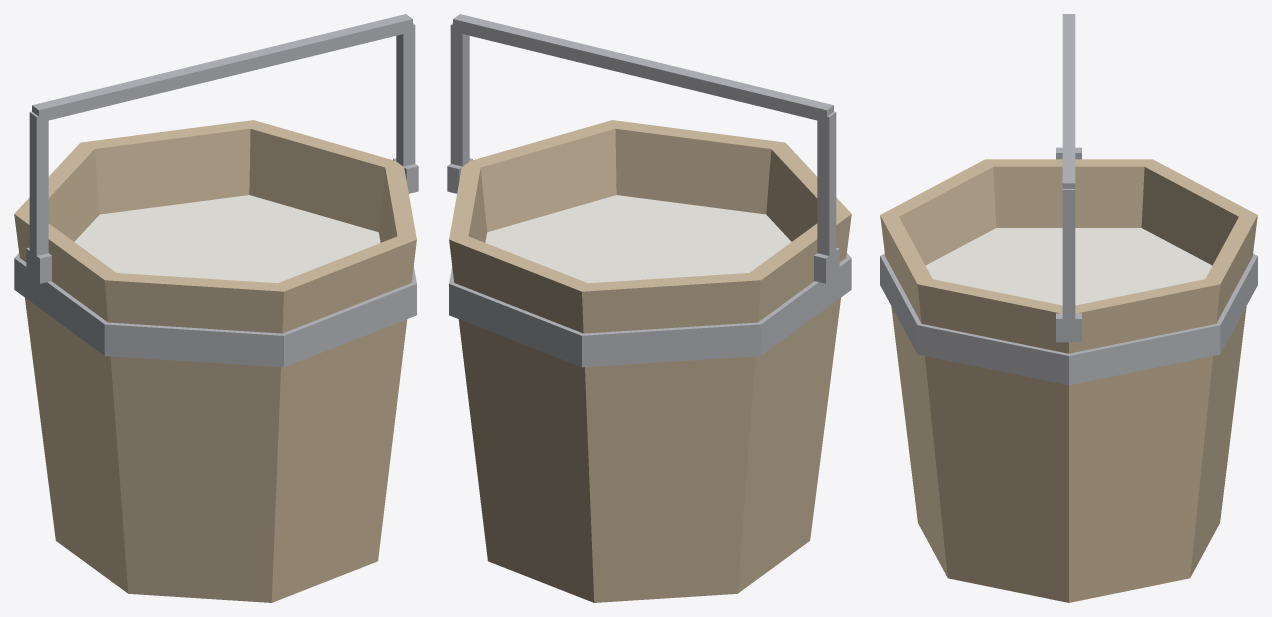
The model's file is prop-lime-bucket-pl1.fbx.
3 views of the same model, side by side, from view 1: azimuth 30°, elevation 25°; view 2: azimuth 150°, elevation 25°; view 3: azimuth 270°, elevation 25° (orthographic). The views are drawn at different scales.
Parts seen in each view (by area): view 1: prop-lime-bucket-pl1; view 2: prop-lime-bucket-pl1; view 3: prop-lime-bucket-pl1.
Part boxes in pixels (x1=…): prop-lime-bucket-pl1: x1=14, y1=14, x2=418, y2=602; prop-lime-bucket-pl1: x1=447, y1=14, x2=851, y2=602; prop-lime-bucket-pl1: x1=880, y1=14, x2=1257, y2=602.
Size of the model in its own units: 31.4 by 37.5 by 29.25.
